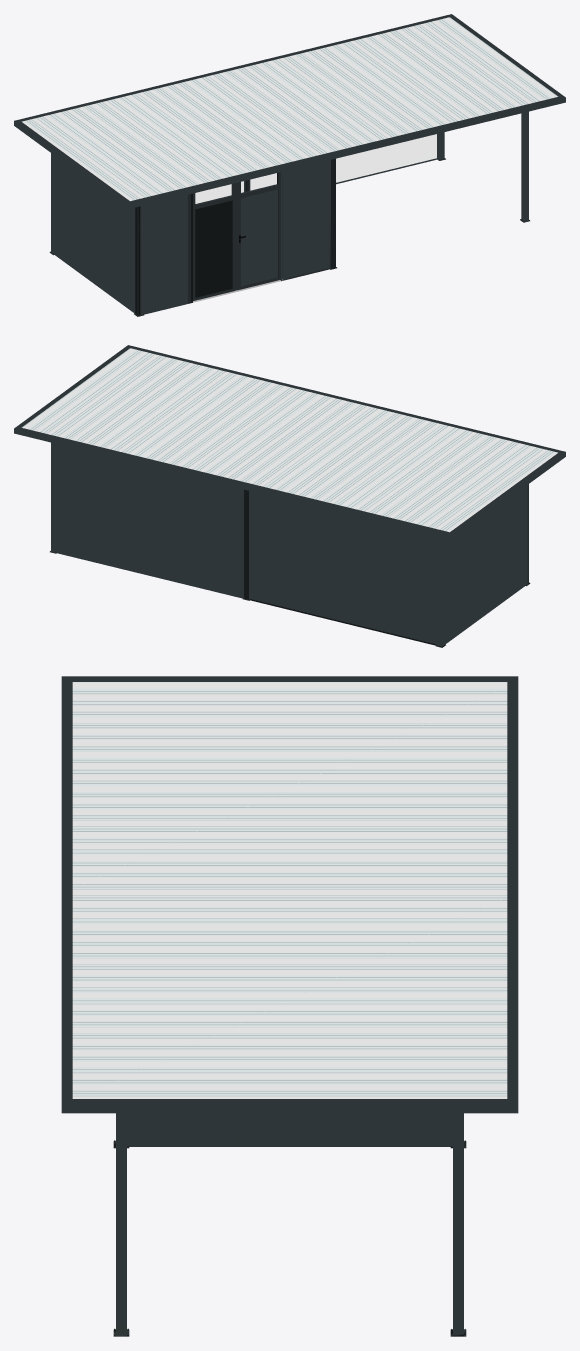
3 views of the same model, one above another, from view 1: azimuth 30°, elevation 25°; view 2: azimuth 150°, elevation 25°; view 3: azimuth 270°, elevation 25° (orthographic). The views are drawn at different scales.
Parts seen in each view (by area): view 1: priximbattable_net_abris_de_jardin_640009_pool_house_azalee_, folha, folha_2, porta_avec_hublot; view 2: priximbattable_net_abris_de_jardin_640009_pool_house_azalee_; view 3: priximbattable_net_abris_de_jardin_640009_pool_house_azalee_.
Part boxes in pixels (<box>): priximbattable_net_abris_de_jardin_640009_pool_house_azalee_: <box>14,14,565,316</box>; folha: <box>193,182,238,300</box>; folha_2: <box>237,172,280,290</box>; porta_avec_hublot: <box>188,171,285,303</box>; priximbattable_net_abris_de_jardin_640009_pool_house_azalee_: <box>14,345,565,647</box>; priximbattable_net_abris_de_jardin_640009_pool_house_azalee_: <box>61,676,518,1336</box>.
Bounding box in the file's own units: 930 × 259 × 420.
1 material, 1 textured.
